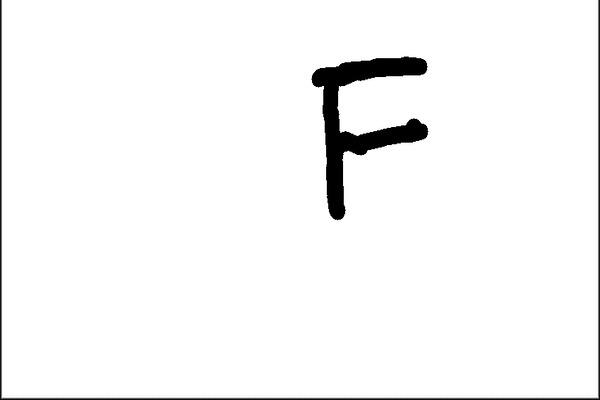F: (308, 53, 431, 222)
